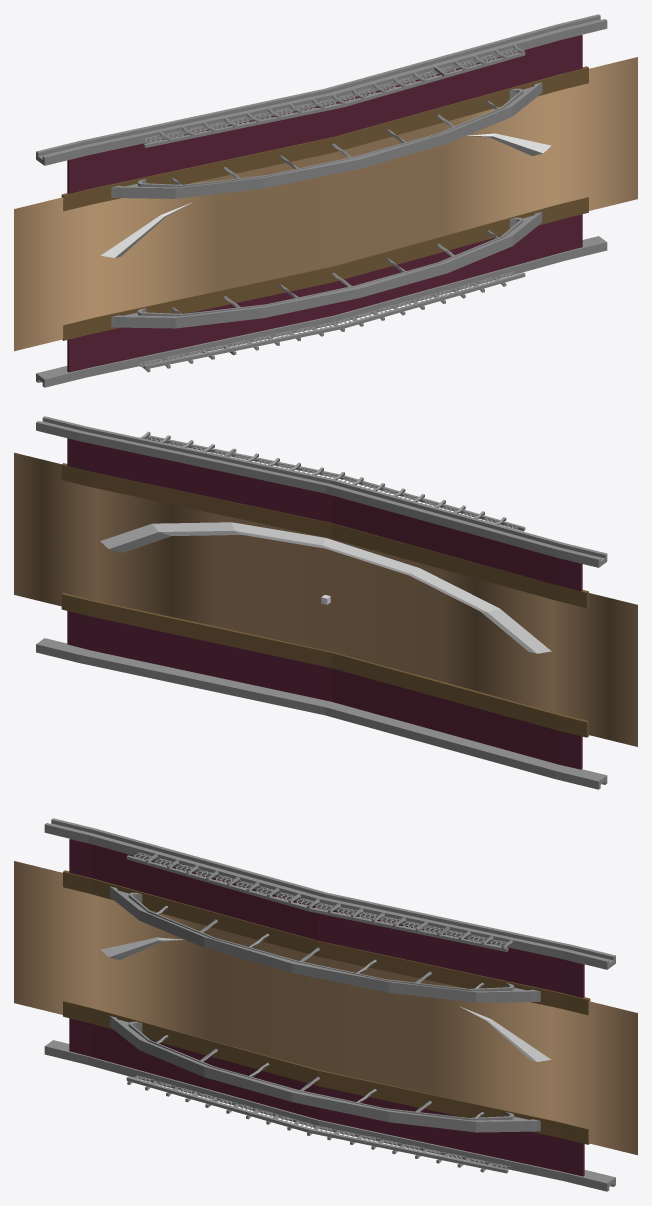
Rendered from bridge 1.fbx.
3 renders of one model, top to bottom at view 1: azimuth 30°, elevation 25°; view 2: azimuth 150°, elevation 25°; view 3: azimuth 330°, elevation 25°, orthographic.
Parts seen in each view (by area): view 1: Plane.001, Cube.001, Plane.002, Cube.002, Plane, Circle; view 2: Plane.001, Cube.001, Plane.002, Cube.002, Circle; view 3: Plane.001, Cube.001, Plane.002, Cube.002, Plane, Circle.
Boxes of the visible parts, box(x1,y1,x2,y2) form: Plane.001: box(14, 57, 637, 351); Cube.001: box(67, 35, 582, 372); Plane.002: box(36, 14, 607, 387); Cube.002: box(61, 66, 588, 340); Plane: box(111, 82, 542, 328); Circle: box(101, 133, 551, 257); Plane.001: box(14, 452, 637, 746); Cube.001: box(67, 438, 582, 769); Plane.002: box(36, 416, 607, 789); Cube.002: box(61, 463, 588, 737); Circle: box(100, 522, 551, 653); Plane.001: box(14, 861, 637, 1155); Cube.001: box(69, 839, 584, 1176); Plane.002: box(44, 818, 615, 1191); Cube.002: box(63, 870, 590, 1144); Plane: box(109, 886, 540, 1132); Circle: box(100, 937, 550, 1061).
Size of the model in its own units: 5105 by 1807 by 600.
